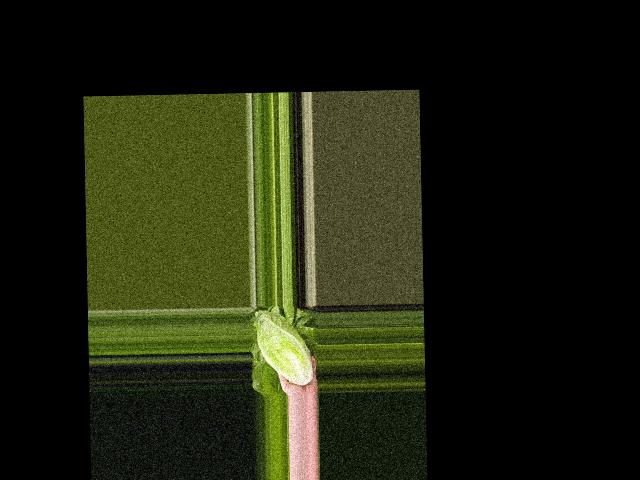lettuce: (254, 308, 315, 387)
